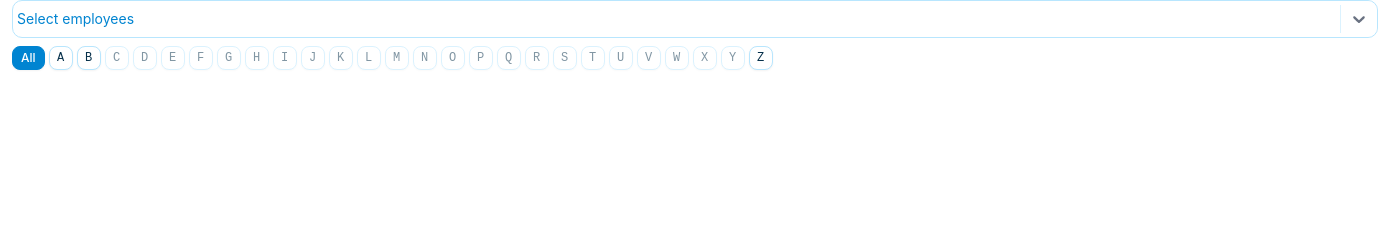
Test case: FilterableMultiSelect › restores the full list on All
Click the button "B": (89, 58) [77, 46, 101, 70]
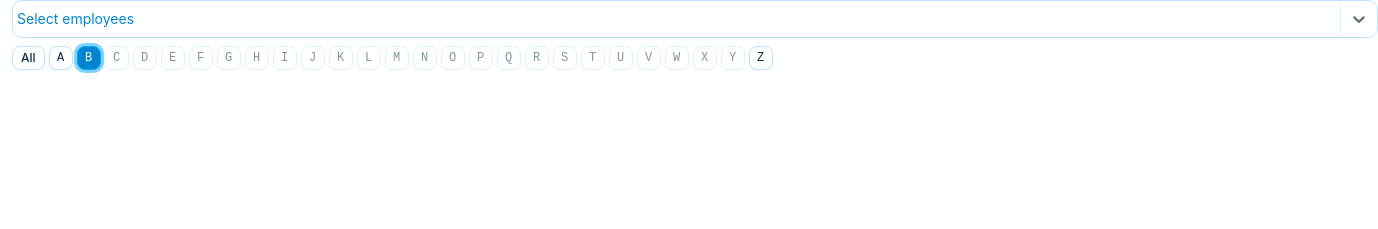
Click the button "All": (28, 58) [12, 46, 45, 70]
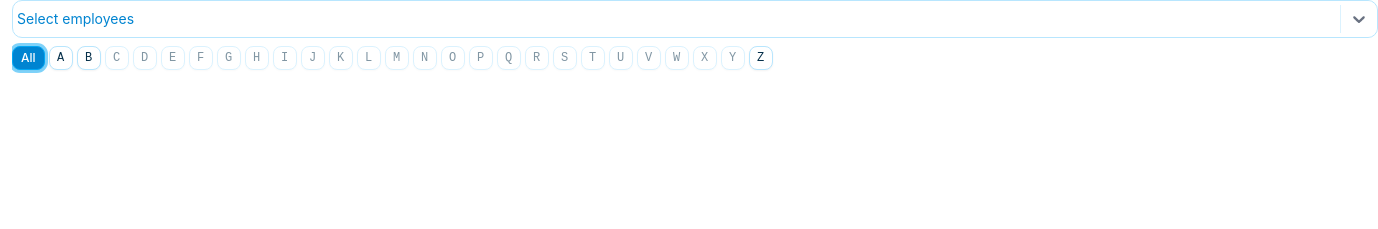
Click the dropdown: (19, 19) [17, 9, 21, 29]
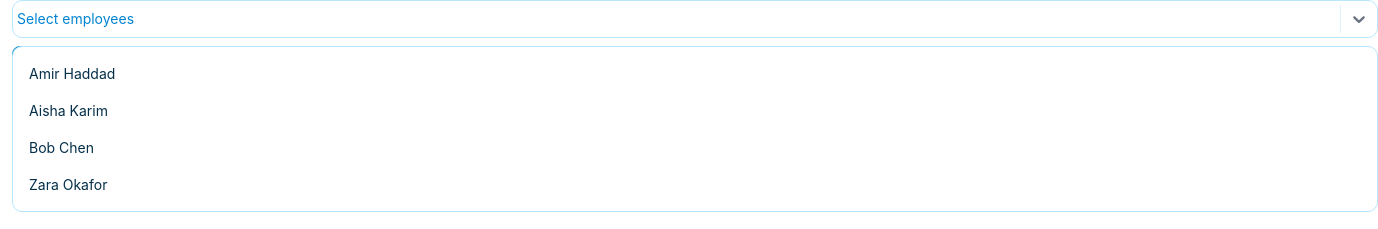
Expected: the option "Amir Haddad" is shown, [21, 55, 1369, 92]
Expected: the option "Zara Okafor" is shown, [21, 166, 1369, 203]
